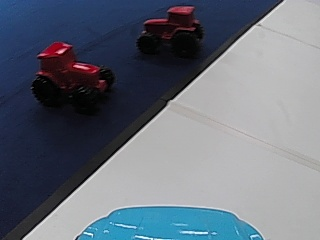Tracktor: (29, 40, 119, 111), (138, 4, 203, 56)
